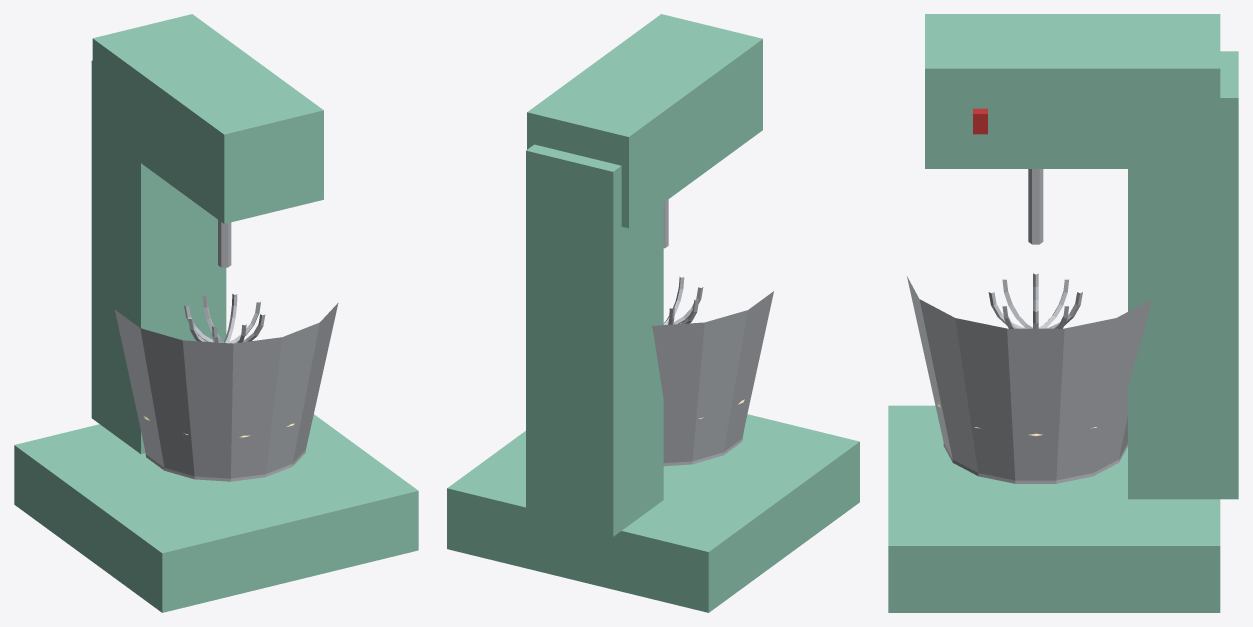
The model's file is giant_mixer.glb.
3 renders of one model, left to right at view 1: azimuth 30°, elevation 25°; view 2: azimuth 150°, elevation 25°; view 3: azimuth 270°, elevation 25°, orthographic. The views are drawn at different scales.
Parts seen in each view (by area): view 1: base_mixer_mint, head_mixer_mint, bowl_bowl_steel, column_mixer_mint, whisk_bowl_steel, shaft_bowl_steel; view 2: column_mixer_mint, base_mixer_mint, head_mixer_mint, bowl_bowl_steel, whisk_bowl_steel; view 3: base_mixer_mint, head_mixer_mint, column_mixer_mint, bowl_bowl_steel, whisk_bowl_steel, shaft_bowl_steel.
Boxes of the visible parts, left/top/right/bottom form: base_mixer_mint: left=14, top=414, right=418, bottom=612; head_mixer_mint: left=92, top=14, right=323, bottom=223; bowl_bowl_steel: left=114, top=302, right=338, bottom=481; column_mixer_mint: left=91, top=60, right=226, bottom=453; whisk_bowl_steel: left=184, top=294, right=265, bottom=343; shaft_bowl_steel: left=218, top=220, right=231, bottom=267; column_mixer_mint: left=526, top=144, right=663, bottom=536; base_mixer_mint: left=447, top=414, right=859, bottom=612; head_mixer_mint: left=527, top=14, right=762, bottom=228; bowl_bowl_steel: left=652, top=291, right=773, bottom=466; whisk_bowl_steel: left=663, top=276, right=703, bottom=324; base_mixer_mint: left=888, top=405, right=1220, bottom=612; head_mixer_mint: left=925, top=14, right=1220, bottom=168; column_mixer_mint: left=1128, top=51, right=1238, bottom=499; bowl_bowl_steel: left=907, top=276, right=1151, bottom=483; whisk_bowl_steel: left=988, top=273, right=1082, bottom=328; shaft_bowl_steel: left=1028, top=169, right=1043, bottom=244.
Bounding box in the file's own units: 0.9 × 1.5 × 0.95.
